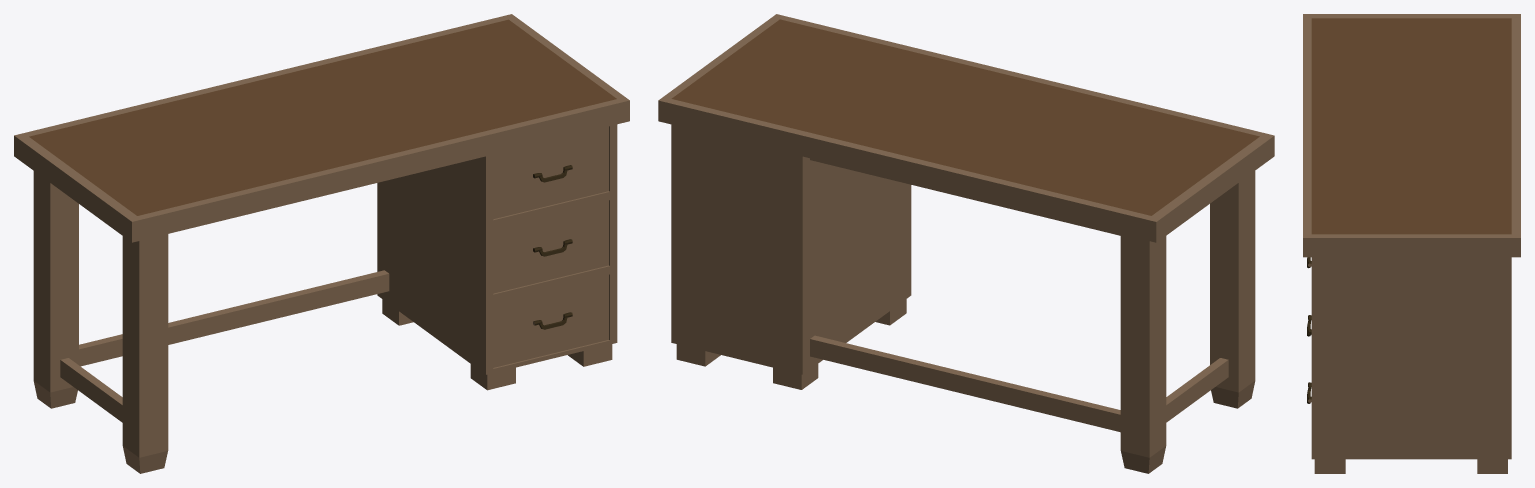
File: Marty desk.fbx
3 views of the same model, side by side, from view 1: azimuth 30°, elevation 25°; view 2: azimuth 150°, elevation 25°; view 3: azimuth 270°, elevation 25° (orthographic). The views are drawn at different scales.
Parts seen in each view (by area): view 1: Desk; view 2: Desk; view 3: Desk.
Part boxes in pixels (x1,y1,x2,y2): Desk: (14, 14, 629, 473); Desk: (658, 14, 1274, 473); Desk: (1303, 14, 1520, 473).
Size of the model in its own units: 1453 by 597 by 729.
